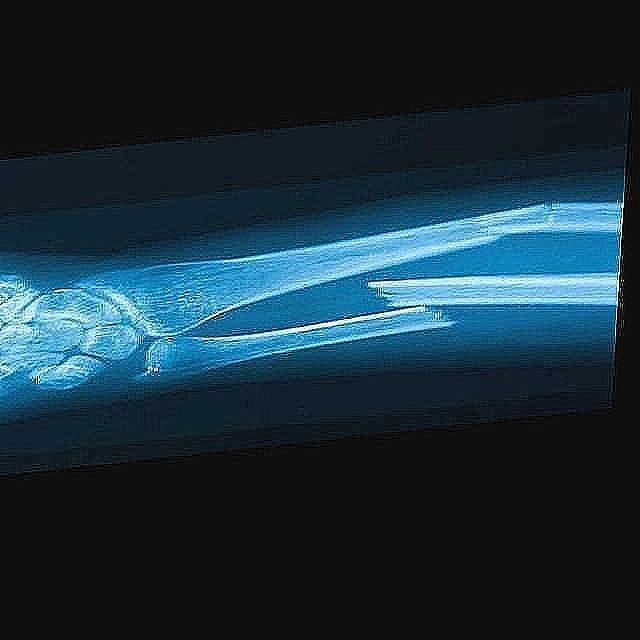bone: (276, 257, 547, 356), (441, 198, 601, 253)
